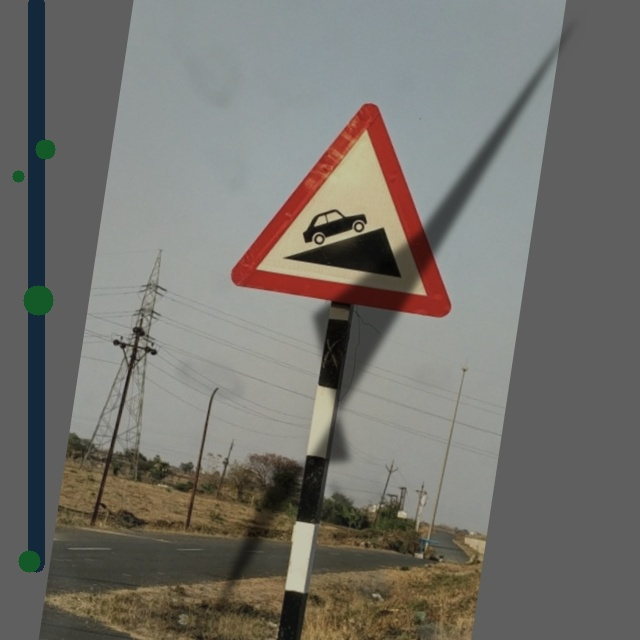Steep_Ascent: (232, 85, 474, 322)
